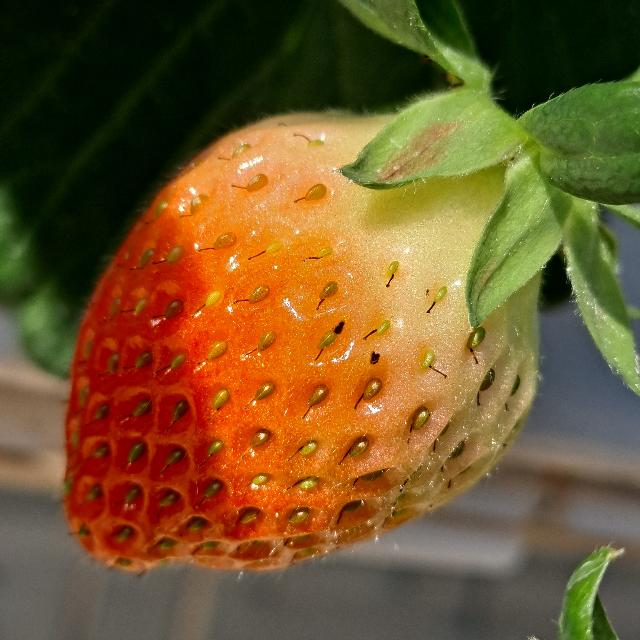Health_75: (62, 112, 540, 572)
